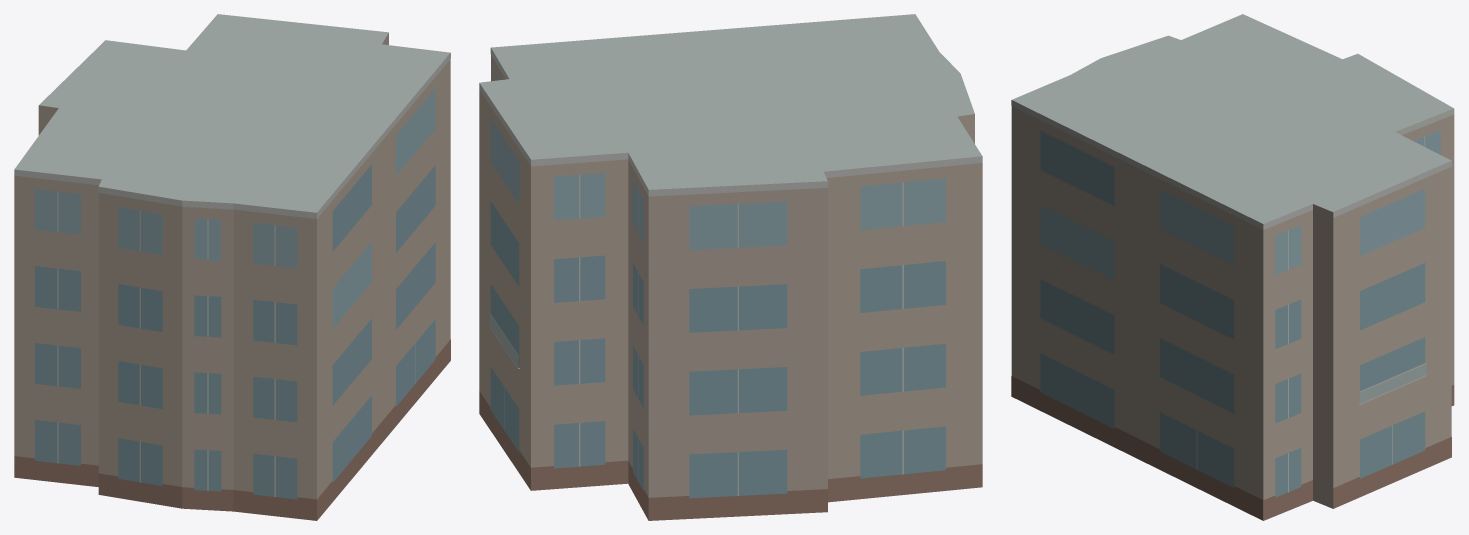
File: survey-upis-32891222.glb
The picture shows the model from 3 angles, left to right: view 1: azimuth 30°, elevation 25°; view 2: azimuth 150°, elevation 25°; view 3: azimuth 270°, elevation 25°; orthographic projection. The views are drawn at different scales.
Parts seen in each view (by area): view 1: survey-upis-32891222.tmp; view 2: survey-upis-32891222.tmp; view 3: survey-upis-32891222.tmp.
Boxes of the visible parts, <box> form: survey-upis-32891222.tmp: <box>14,14,450,520</box>; survey-upis-32891222.tmp: <box>479,14,982,520</box>; survey-upis-32891222.tmp: <box>1011,14,1454,520</box>.
Bounding box in the file's own units: 18.54 × 12.2 × 16.51.
